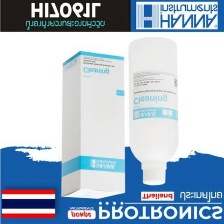book: (59, 49, 126, 201)
cleaning_solution: (127, 33, 181, 185)
